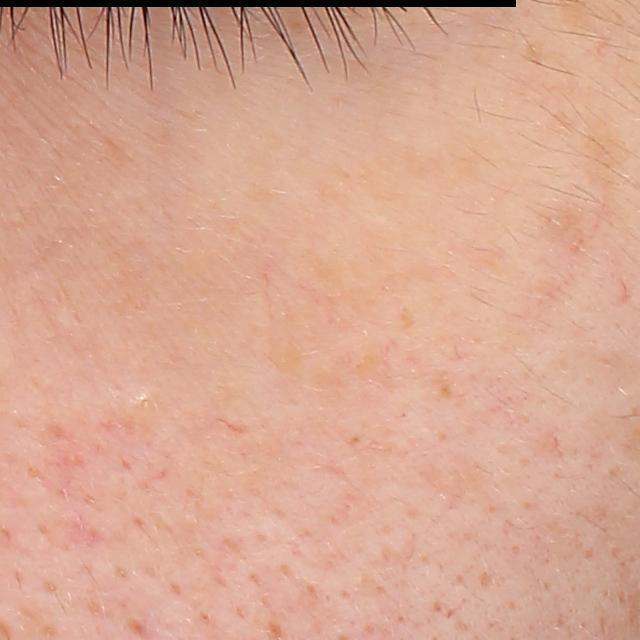comedo: (135, 392, 151, 410)
